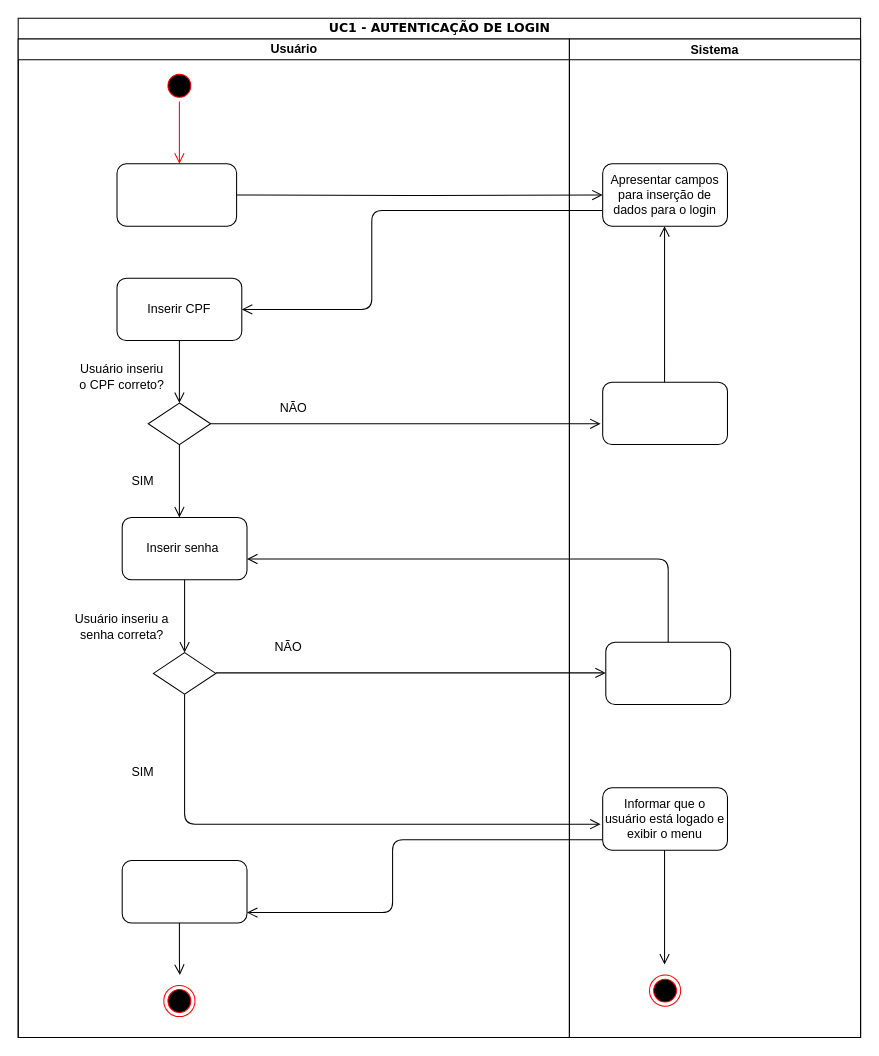
Image size: 879x1056. Some labels were removed from this diagram. The centre of each missing label's shape, as x and y in pixels:
"Acessar tela de Login" belongs at point 176,194.
"Receber confirmação de login e menu de opções" belongs at point 184,891.
"Solicitar que o usuário insira a senha novamente" belongs at point 668,673.
"Solicitar que o usuário insira os dados novamente" belongs at point 664,413.
